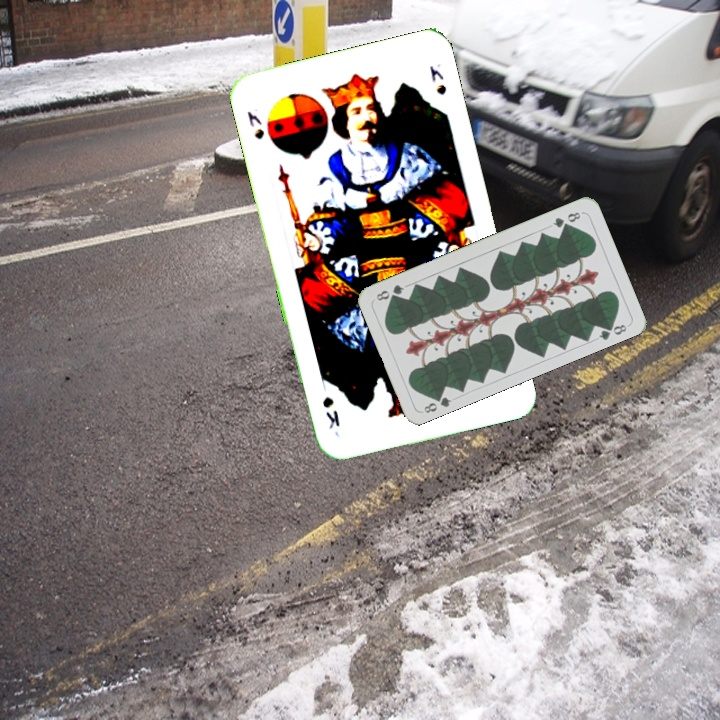G8: (420, 389, 454, 416), (549, 208, 583, 230)
SK: (243, 107, 267, 142)
